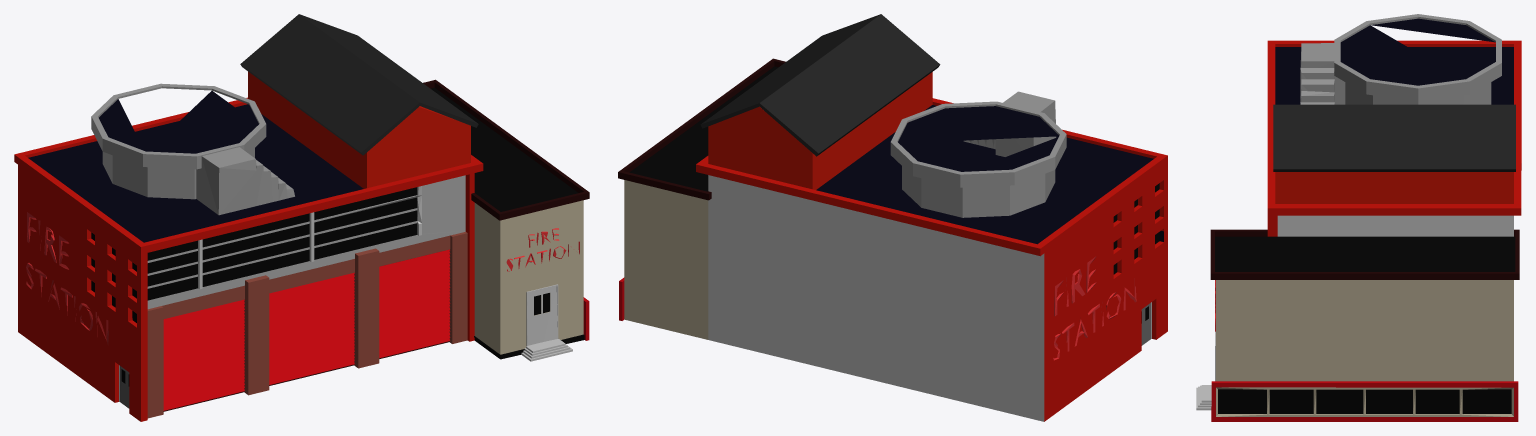
File: fire-station.glb
3 views of the same model, side by side, from view 1: azimuth 30°, elevation 25°; view 2: azimuth 150°, elevation 25°; view 3: azimuth 270°, elevation 25° (orthographic).
Visible parts, largest first — view 1: Plane; view 2: Plane; view 3: Plane.
Boxes of the visible parts, box(x1,y1,x2,y2) form: Plane: box(14, 14, 589, 421); Plane: box(618, 14, 1167, 421); Plane: box(1196, 14, 1521, 421).
Bounding box in the file's own units: 1.9 × 1.07 × 1.27.
